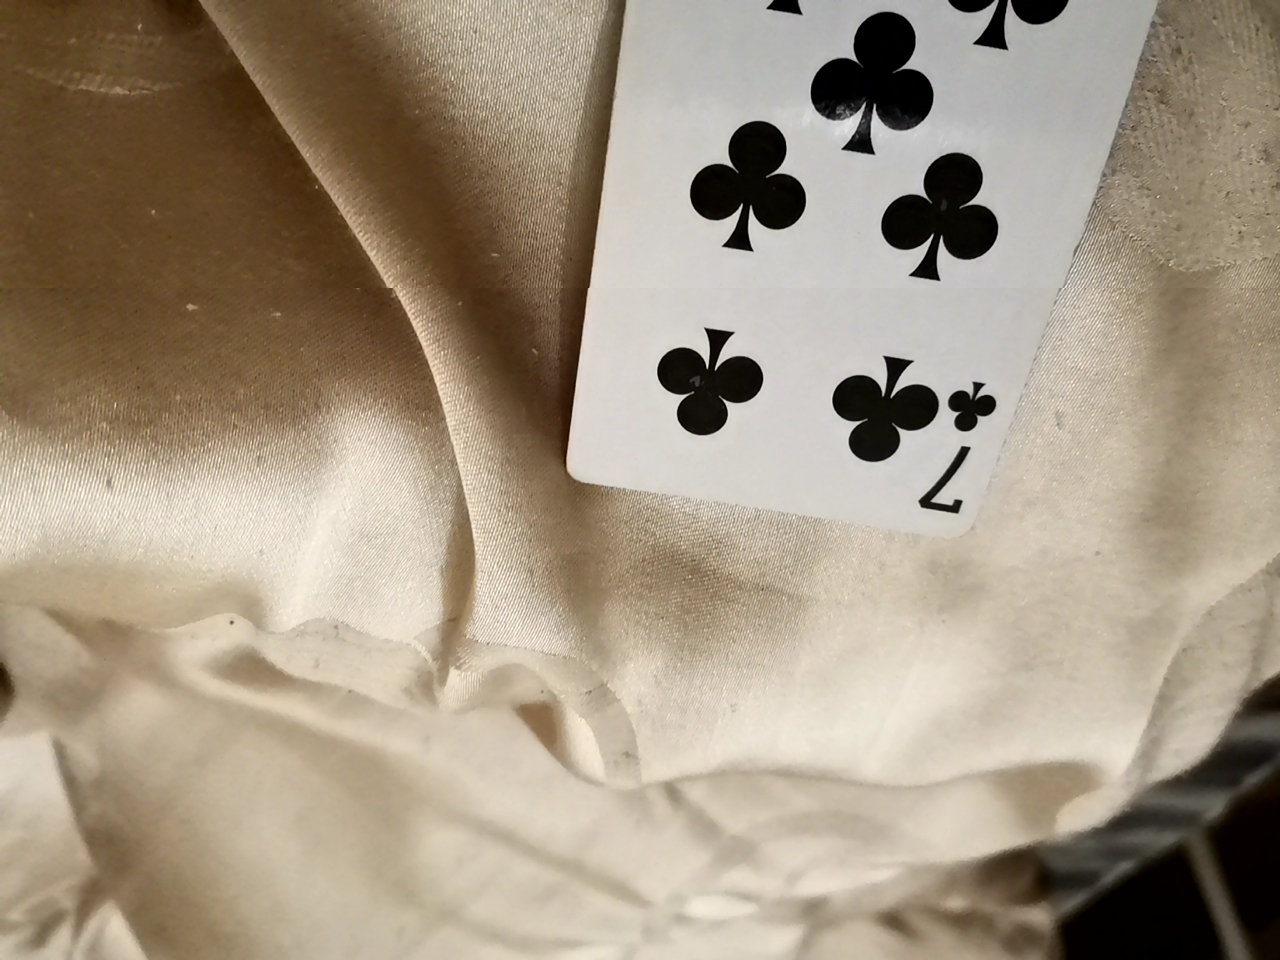mh 7: (559, 1, 1150, 552)
